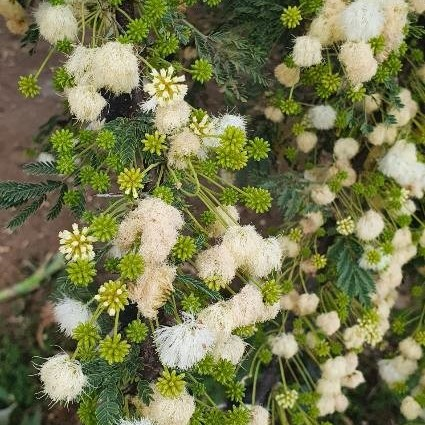obstacle: (71, 75, 319, 412)
